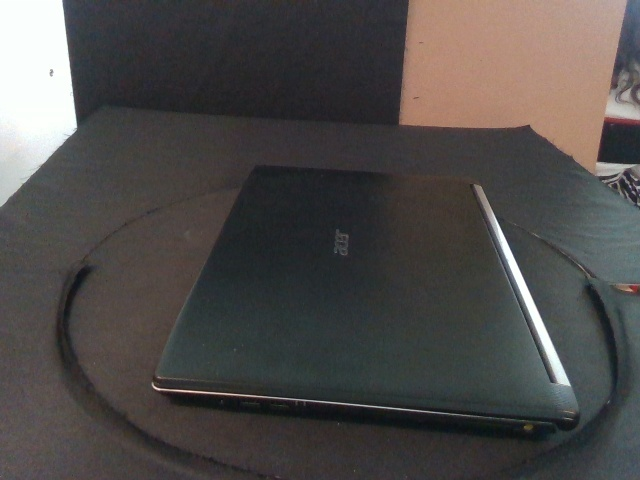laptop: (151, 163, 580, 439)
